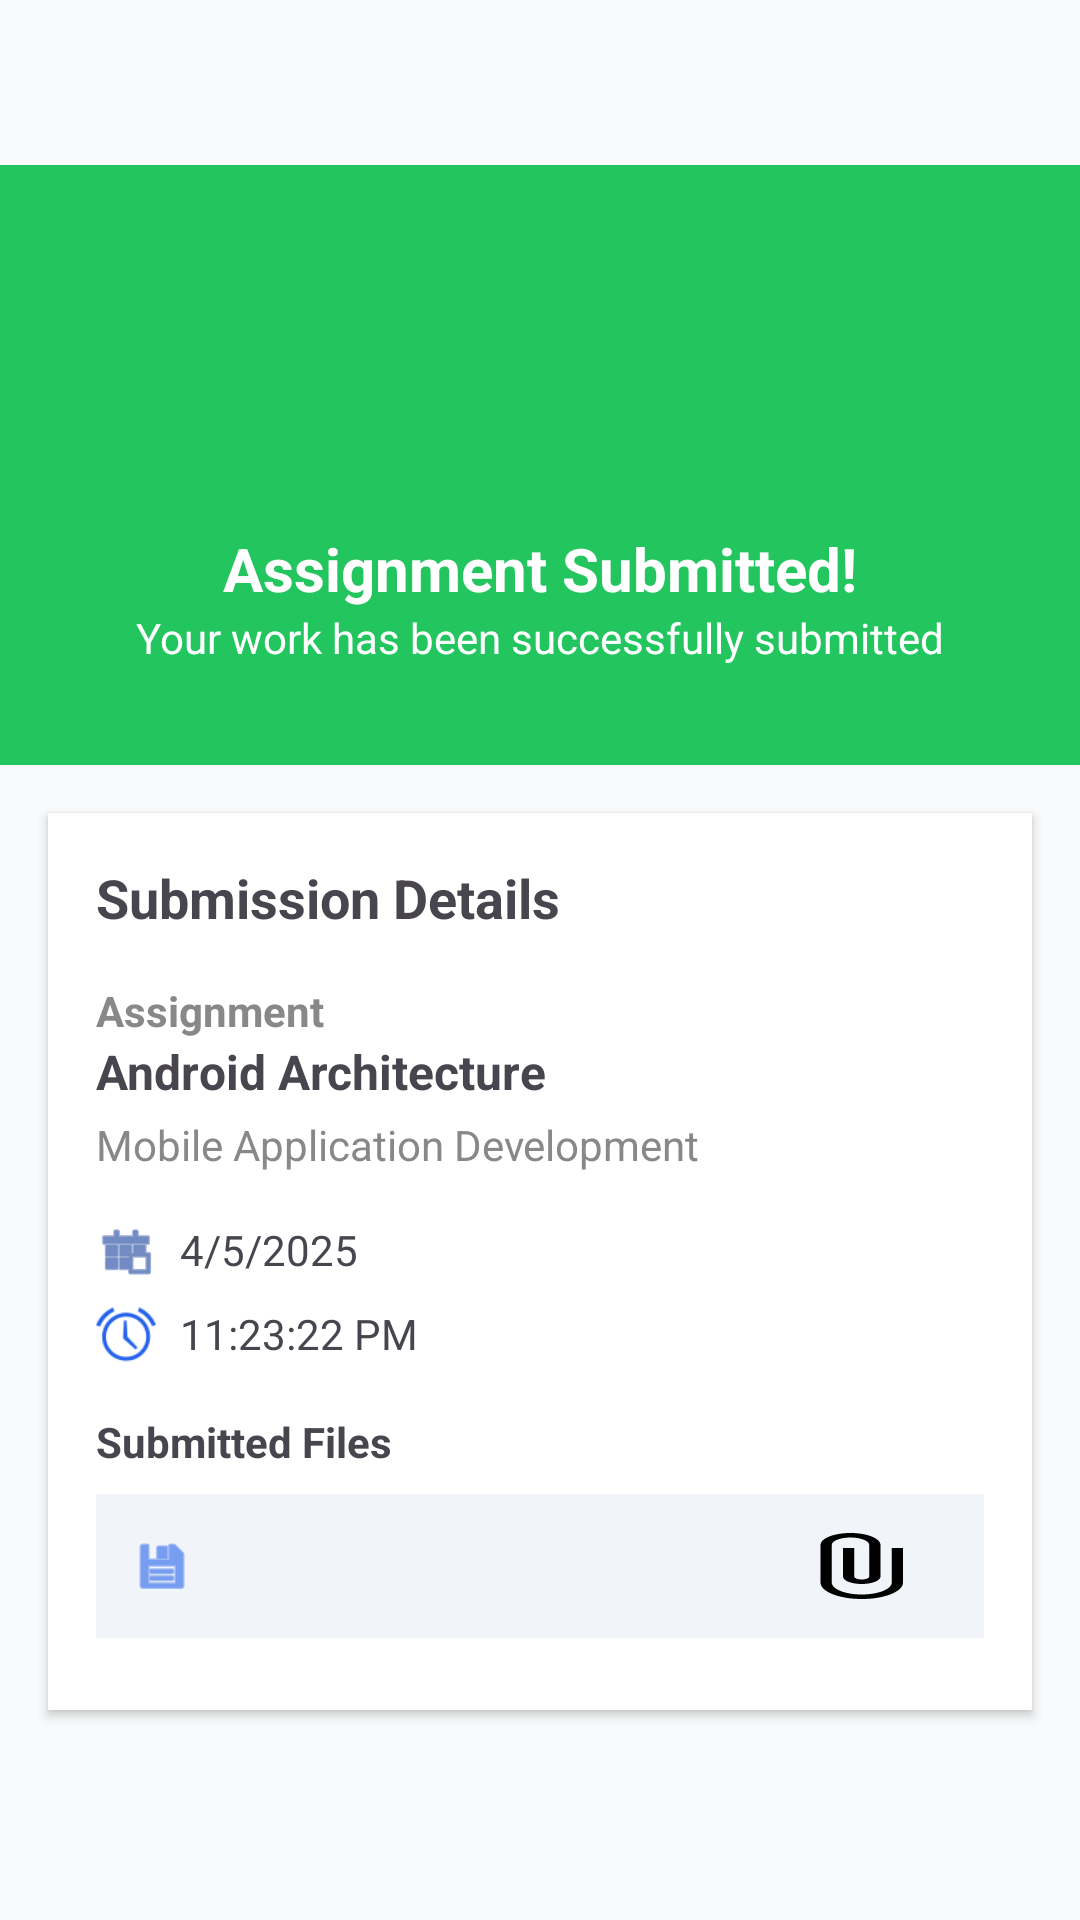

Point at icon controls on the screen. Image size 1080w x 1920h, points as (x,y).
lock idle alarm: (126,1334)
save: (162,1566)
today: (126,1252)
